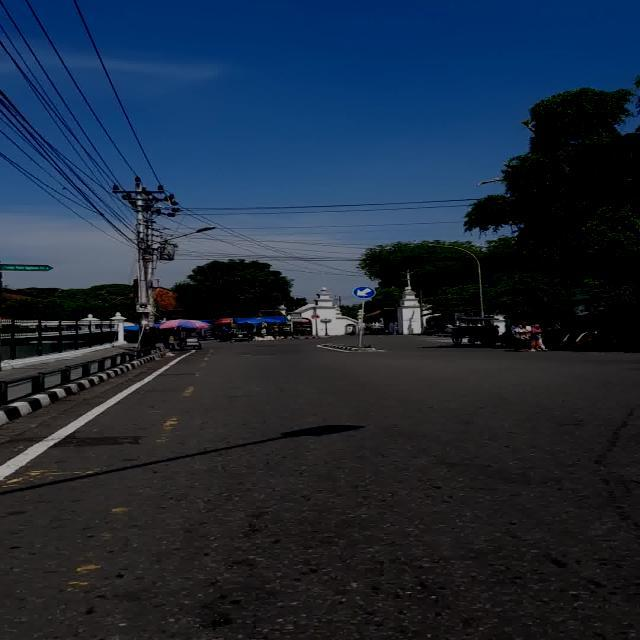Lajur Kiri: (352, 286, 376, 298)
